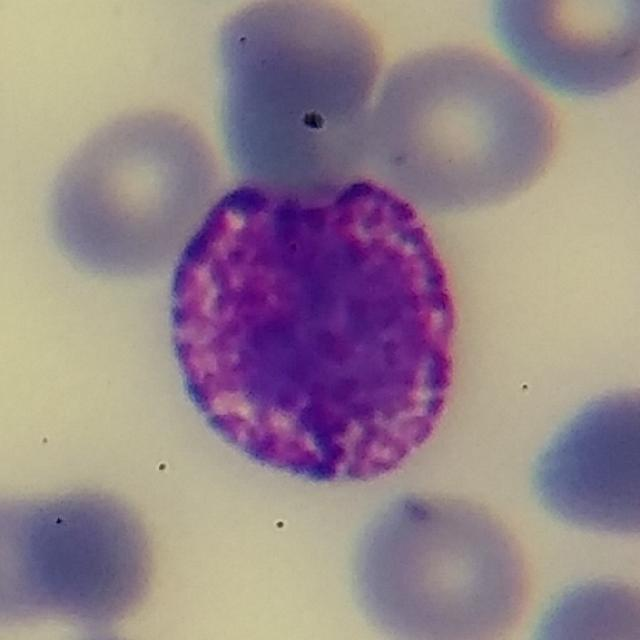Basophil: (163, 155, 479, 492)
RBC: (363, 35, 570, 214), (37, 99, 229, 281), (206, 0, 395, 170), (343, 484, 542, 639), (17, 477, 174, 631), (523, 375, 640, 545), (483, 0, 640, 101), (0, 486, 81, 634), (520, 567, 640, 640)
